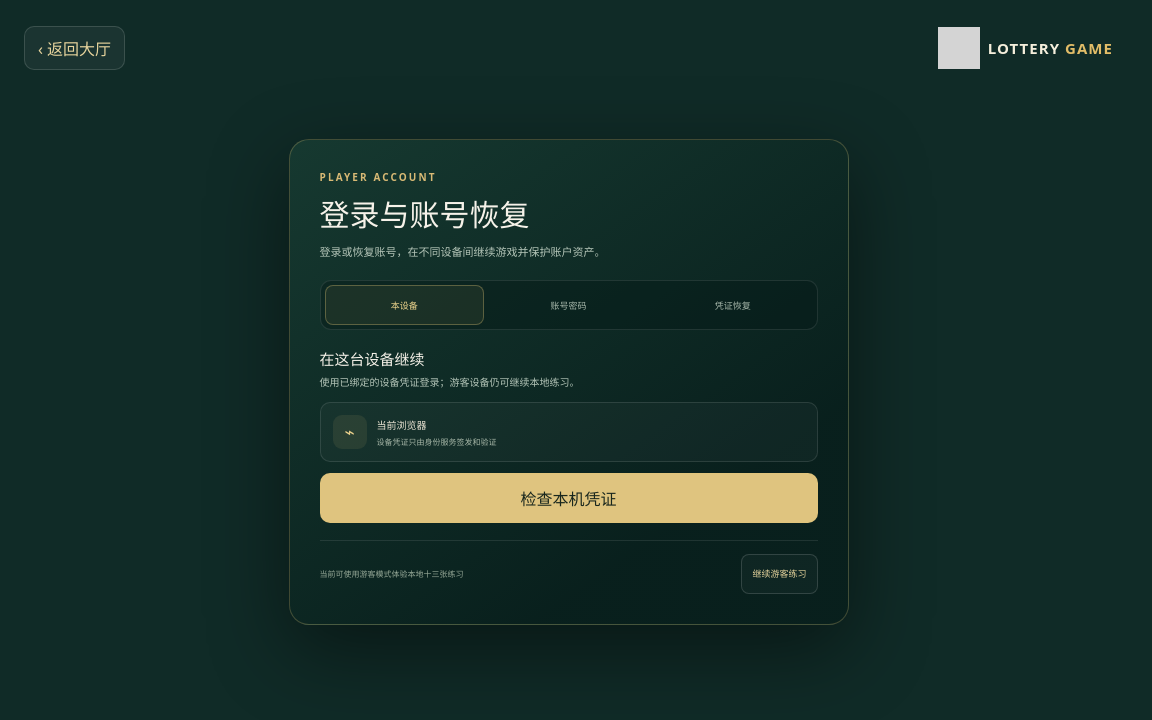
Test: PlayerEntryPage › shows an application validation message when login is clicked with empty fields
Click the tab with id "entry-mode-password".
click(568, 305)  # box [489, 285, 648, 325]
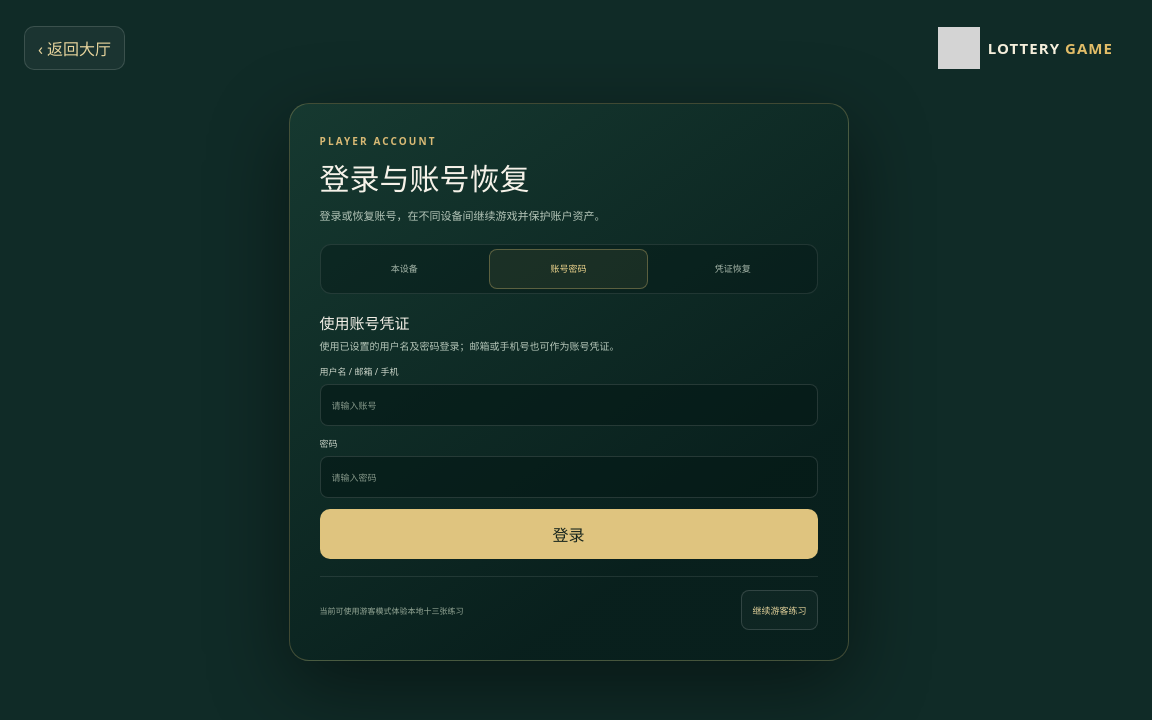
Click the submit button.
click(568, 534)  # box [320, 509, 818, 559]
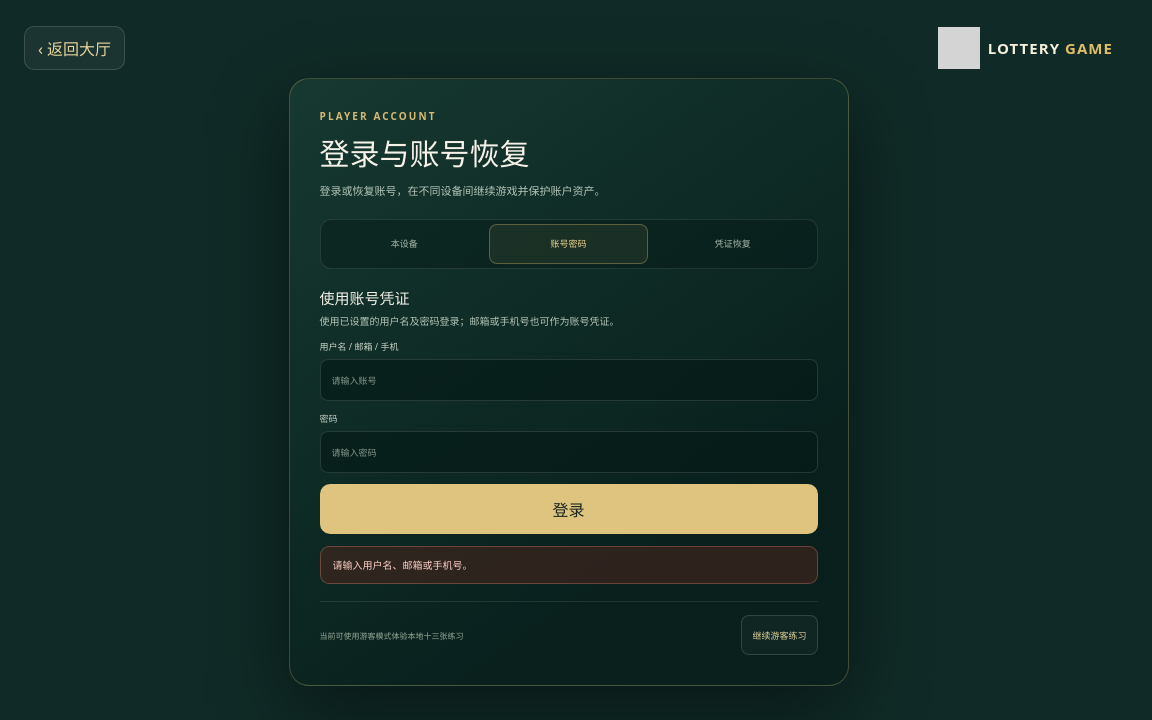
Expected: the message "请输入用户名、邮箱或手机号。" is shown, [320, 546, 818, 584]
